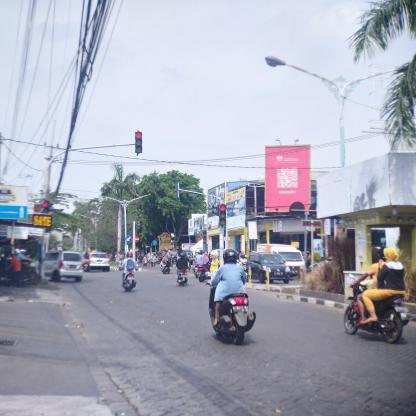red: (135, 130, 143, 152), (219, 203, 226, 227)
